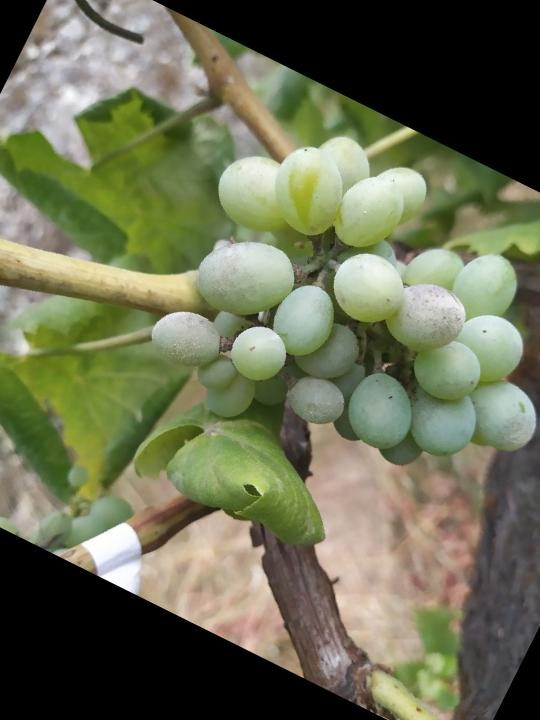grape: (123, 87, 540, 547)
